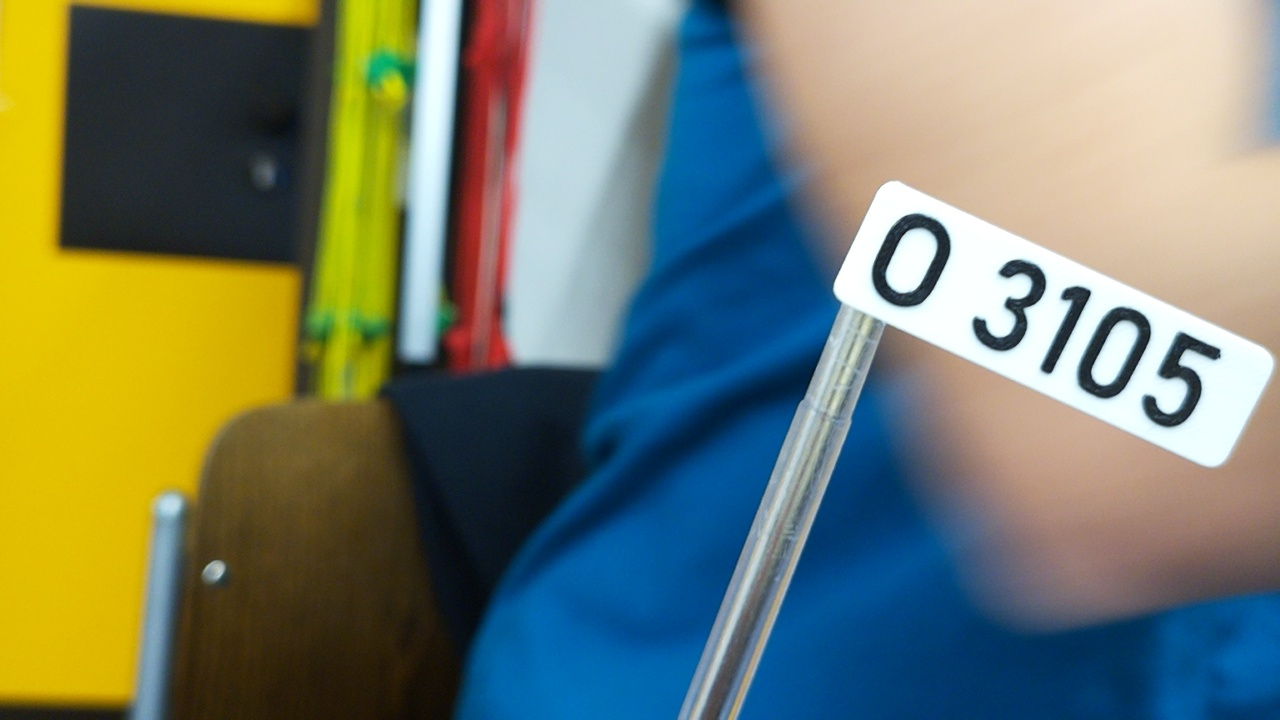license_plate: (830, 175, 1278, 471)
